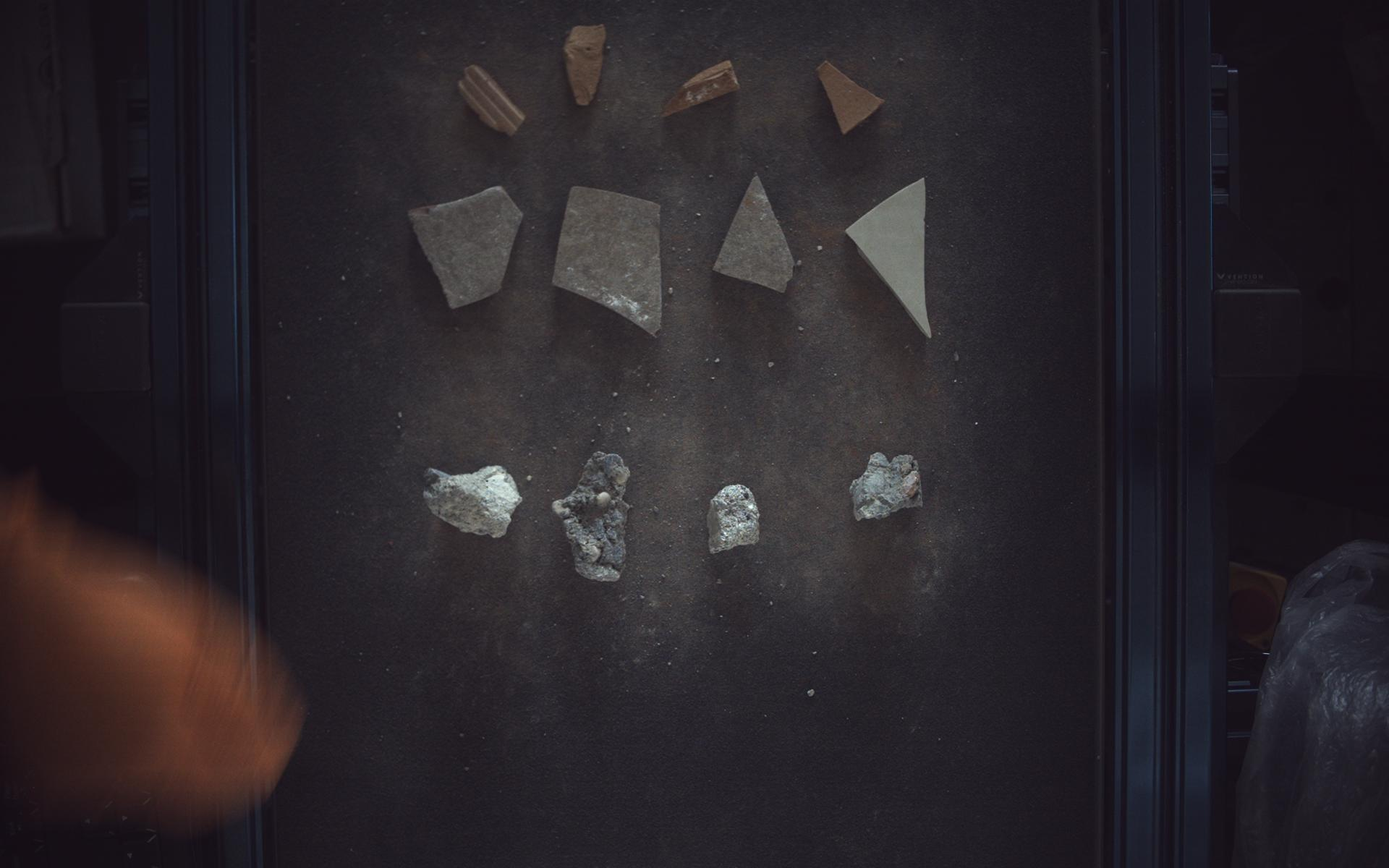brick: (818, 59, 886, 133), (458, 63, 524, 135), (663, 61, 740, 116), (564, 23, 606, 105)
concrete: (552, 451, 632, 582), (423, 467, 522, 539), (851, 453, 924, 521), (708, 485, 760, 554)
tile: (553, 186, 663, 335), (408, 185, 523, 308), (847, 178, 934, 337), (714, 174, 796, 292)
